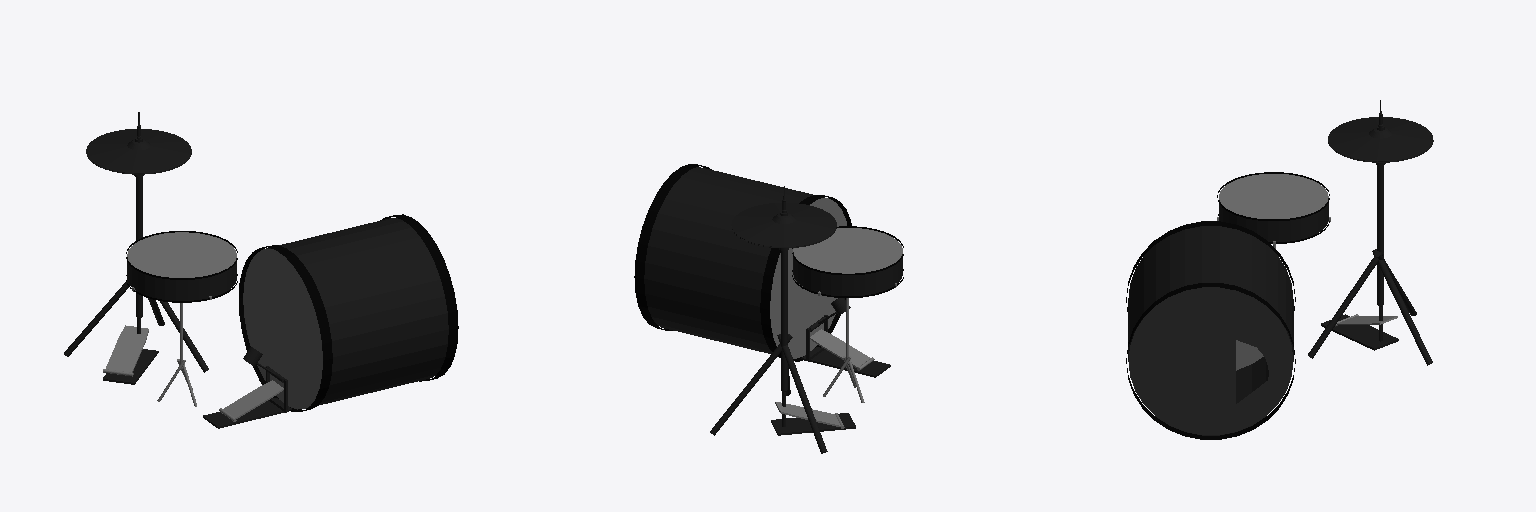
The model's file is drums.obj.
3 views of the same model, side by side, from view 1: azimuth 30°, elevation 25°; view 2: azimuth 150°, elevation 25°; view 3: azimuth 270°, elevation 25° (orthographic).
Visible parts, largest first — view 1: HH_Pedal_Cylinder.002; view 2: HH_Pedal_Cylinder.002; view 3: HH_Pedal_Cylinder.002.
Part boxes in pixels (left/top/right/bottom): HH_Pedal_Cylinder.002: left=64, top=112, right=458, bottom=428; HH_Pedal_Cylinder.002: left=634, top=164, right=903, bottom=453; HH_Pedal_Cylinder.002: left=1126, top=100, right=1433, bottom=439.
Size of the model in its own units: 2.59 by 2.42 by 2.74.